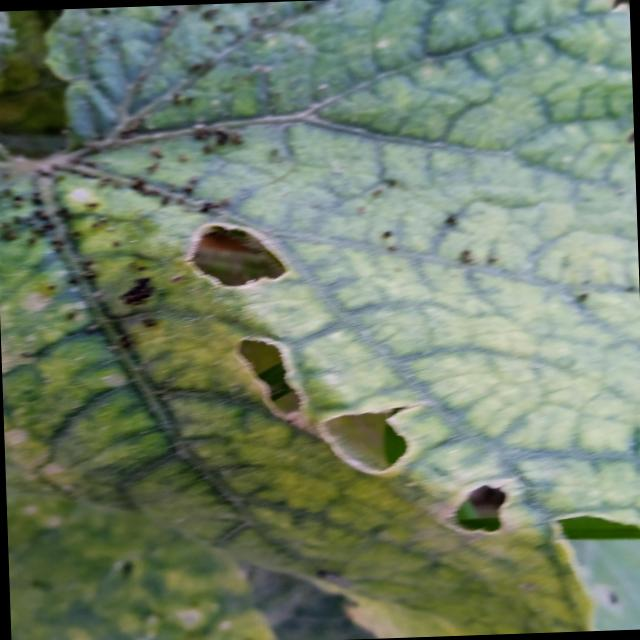cucumber_anthracnose: (0, 0, 622, 606)
